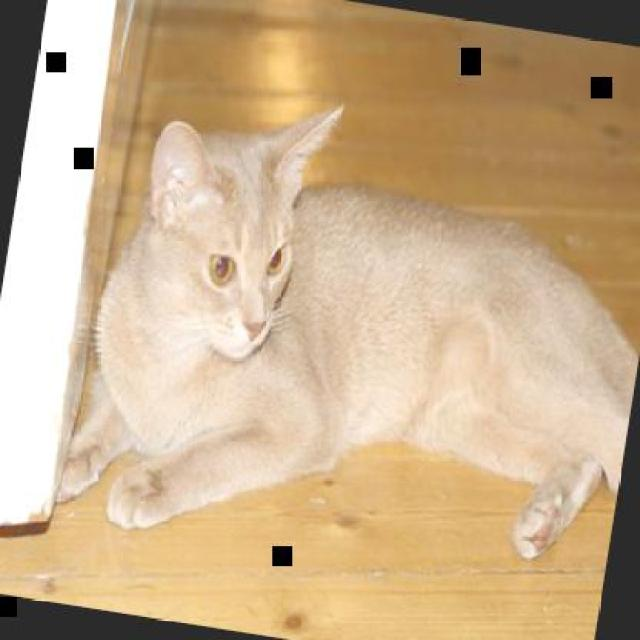cat: (49, 66, 638, 608)
